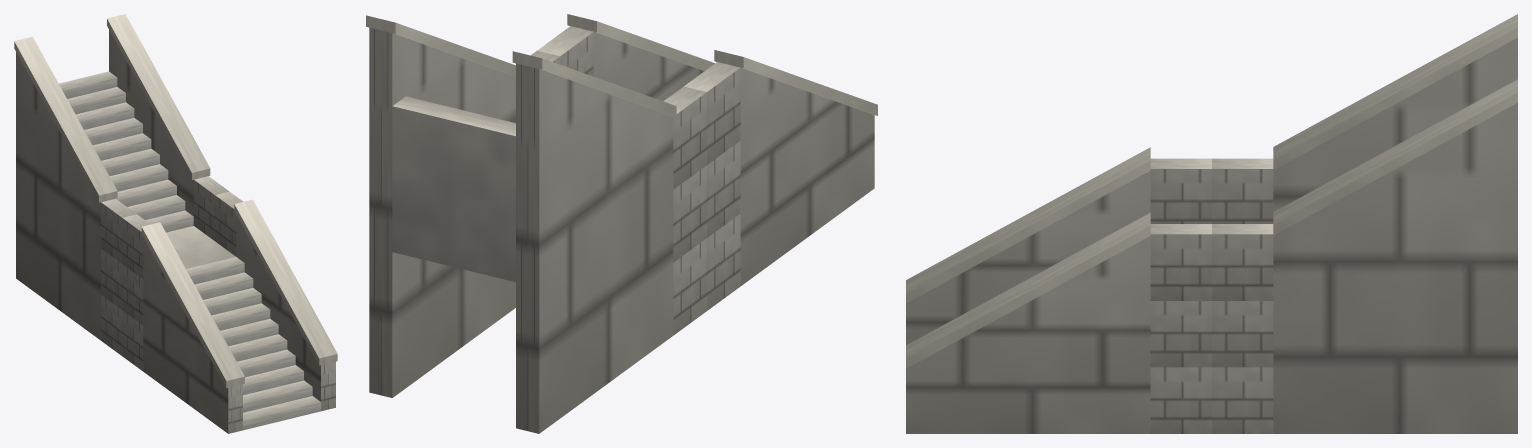
Rendered from stairs_stone_36_01.glb.
3 views of the same model, side by side, from view 1: azimuth 30°, elevation 25°; view 2: azimuth 150°, elevation 25°; view 3: azimuth 270°, elevation 25° (orthographic). The views are drawn at different scales.
Parts seen in each view (by area): view 1: stairs_stone_36_01; view 2: stairs_stone_36_01; view 3: stairs_stone_36_01.
Part boxes in pixels (x1,y1,x2,y2): stairs_stone_36_01: (14, 14, 337, 433); stairs_stone_36_01: (366, 14, 877, 433); stairs_stone_36_01: (906, 14, 1517, 433).
Bounding box in the file's own units: 2.27 × 4.64 × 7.5.
Materials: 1 (1 with a texture image).
